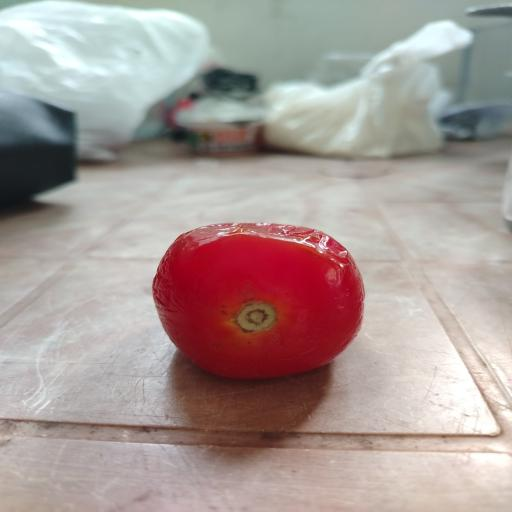spoiled: (153, 223, 364, 378)
